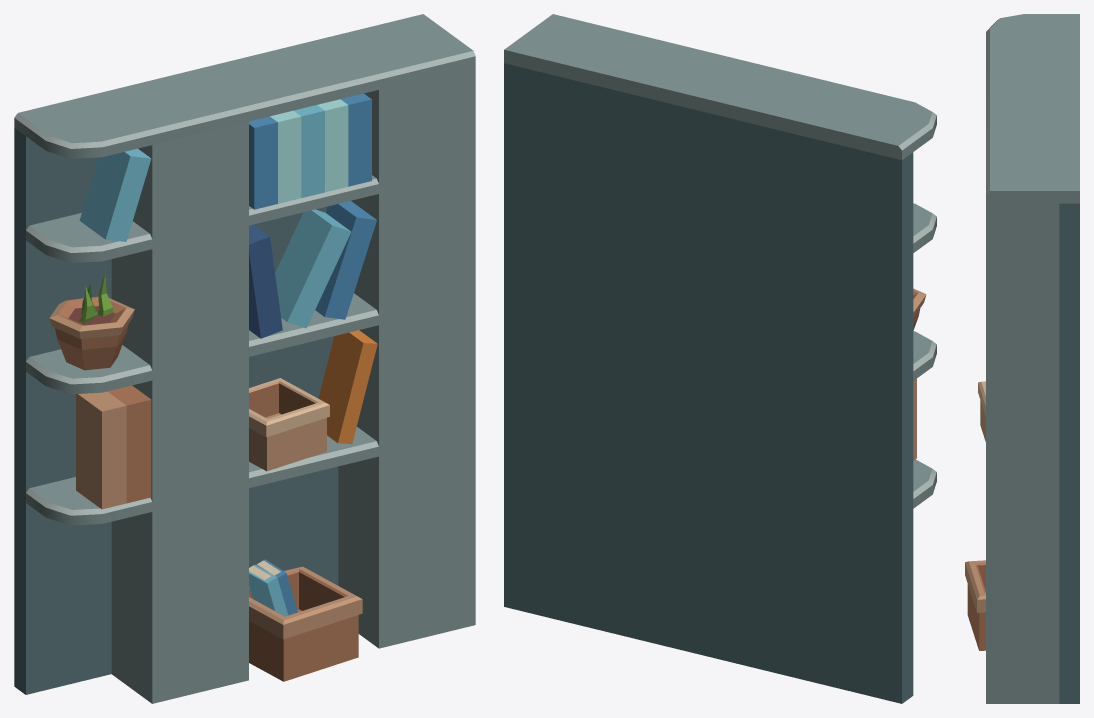
The model's file is Armoire.fbx.
3 renders of one model, left to right at view 1: azimuth 30°, elevation 25°; view 2: azimuth 150°, elevation 25°; view 3: azimuth 270°, elevation 25°, orthographic. The views are drawn at different scales.
Parts seen in each view (by area): view 1: Armoire; view 2: Armoire; view 3: Armoire.
Boxes of the visible parts, x1,y1,x2,y2 form: Armoire: [14, 14, 475, 703]; Armoire: [504, 14, 936, 703]; Armoire: [965, 14, 1079, 703].
Size of the model in its own units: 127 by 170 by 34.56.
